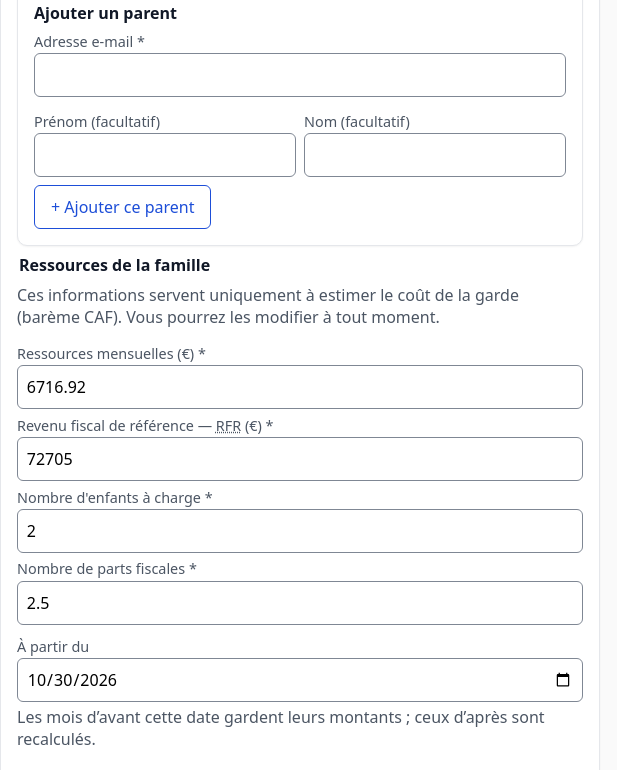
Test: FoyerModifierPage › enregistre les scalaires (euros), reste sur la page et affiche le statut
(page scrolled)
Replace the text in the number field labelled "Ressources mensuelles (€) *" with "7000" at coordinates (300, 387), box 17,365 -> 583,409
(page scrolled)
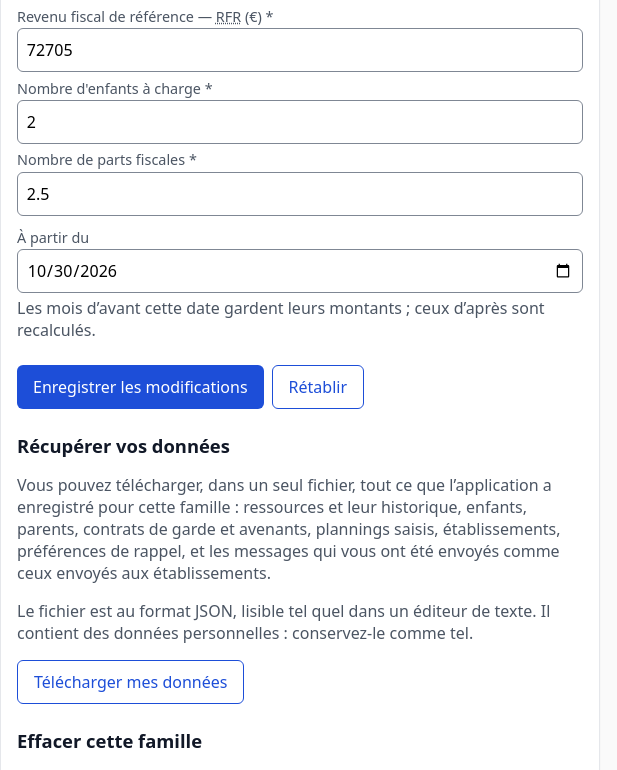
Click the button "Enregistrer les modifications".
click(140, 387)  # box 17,365 -> 264,409
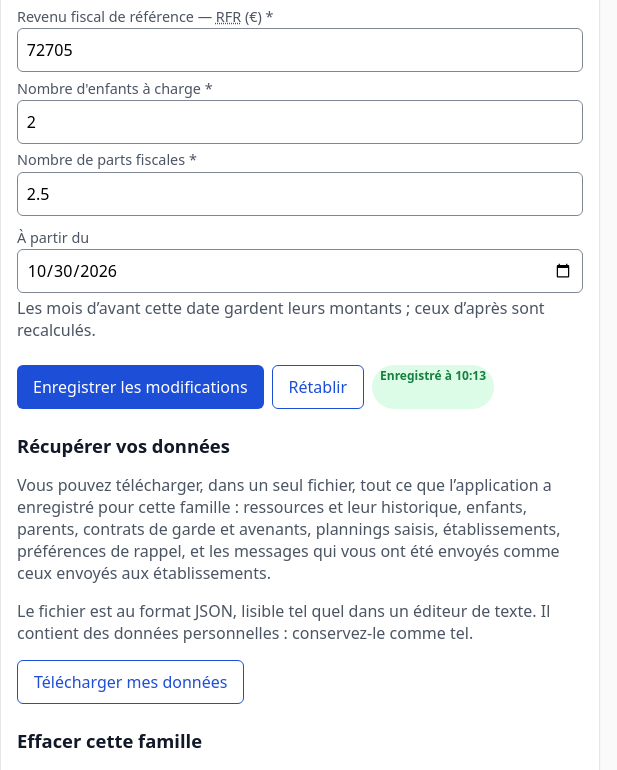
Check: the text "Enregistré à 10:13" is shown, box 372,365 -> 494,409
